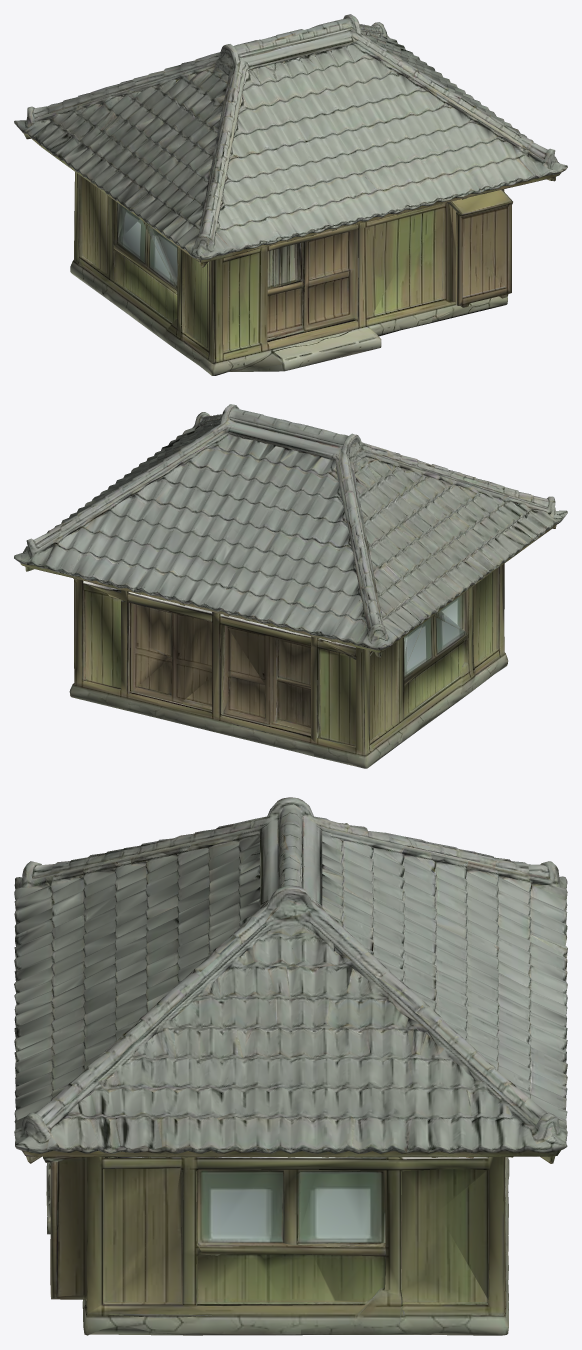
File: kuku-house-1.glb
The picture shows the model from 3 angles, top to bottom: view 1: azimuth 30°, elevation 25°; view 2: azimuth 150°, elevation 25°; view 3: azimuth 270°, elevation 25°; orthographic projection. The views are drawn at different scales.
Visible parts, largest first — view 1: Mesh_0; view 2: Mesh_0; view 3: Mesh_0.
Boxes of the visible parts, x1,y1,x2,y2 form: Mesh_0: [14, 14, 567, 375]; Mesh_0: [14, 404, 567, 768]; Mesh_0: [14, 797, 567, 1335].
Bounding box in the file's own units: 1.91 × 1.28 × 1.66.
1 material, 1 textured.
